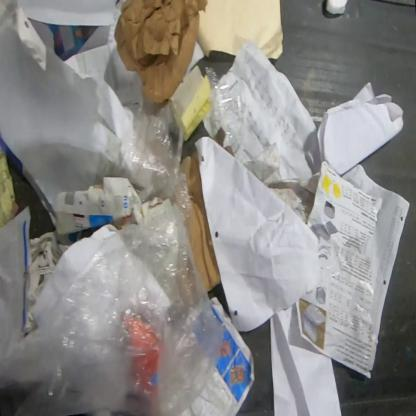cardboard: (114, 0, 209, 101), (55, 175, 142, 247), (181, 150, 221, 292), (170, 62, 210, 142)
rigid_plastic: (204, 66, 247, 147)
soft_plastic: (0, 88, 225, 415)
